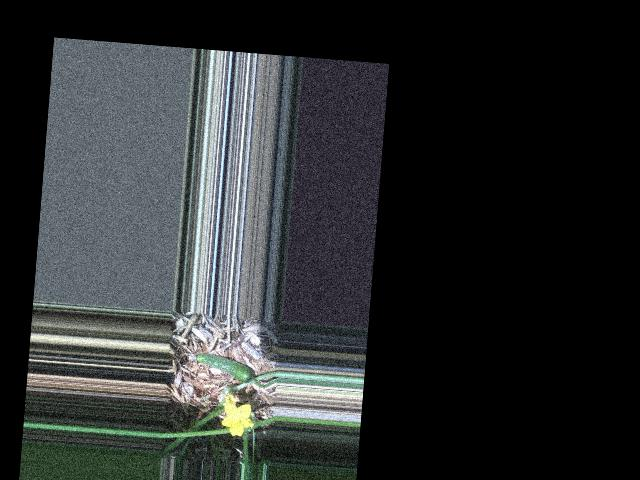cucumber: (188, 351, 255, 384)
